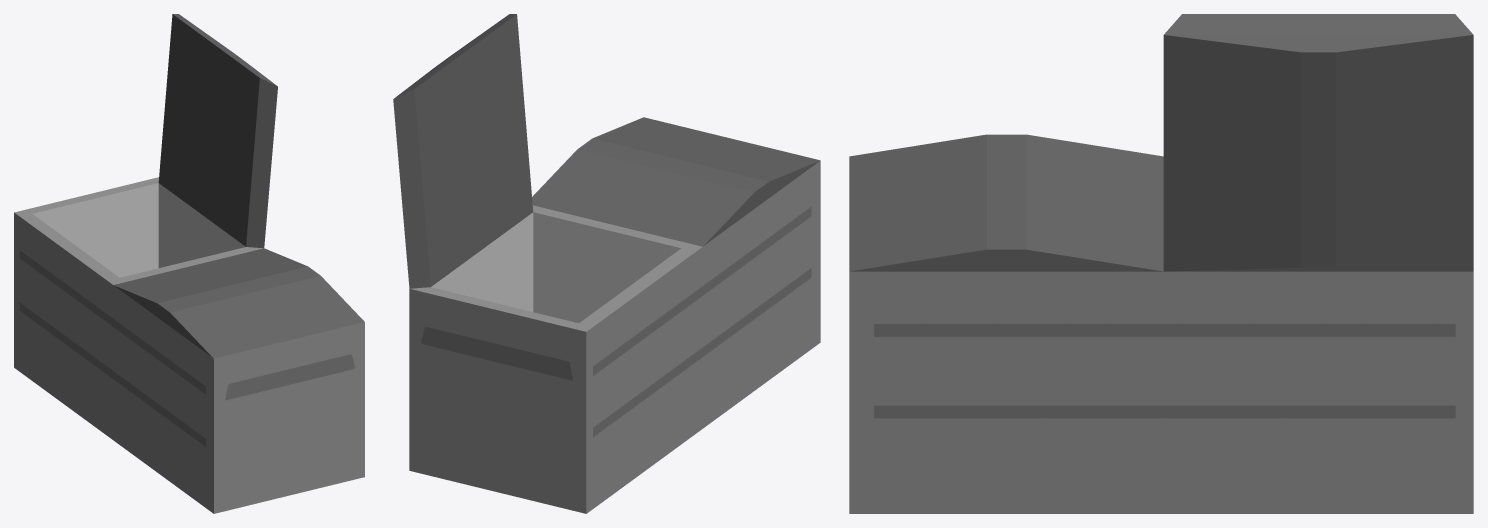
The model's file is Contentor do Lixo.FBX.
3 renders of one model, left to right at view 1: azimuth 30°, elevation 25°; view 2: azimuth 150°, elevation 25°; view 3: azimuth 270°, elevation 25°, orthographic. The views are drawn at different scales.
Parts seen in each view (by area): view 1: Box007; view 2: Box007; view 3: Box007.
Part boxes in pixels (box(x1,y1,x2,y2)): Box007: box(14, 14, 364, 513); Box007: box(393, 14, 820, 513); Box007: box(849, 14, 1473, 513).
Bounding box in the file's own units: 15.21 × 26.92 × 30.39.
